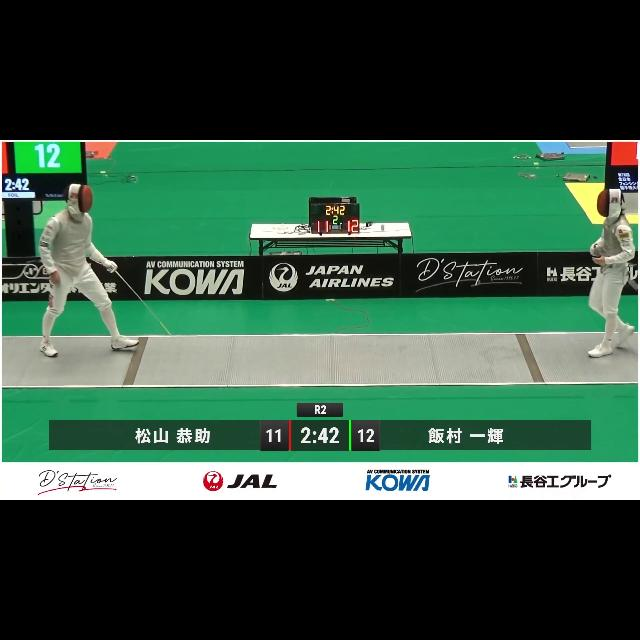blade: (108, 264, 184, 346), (588, 243, 638, 290)
